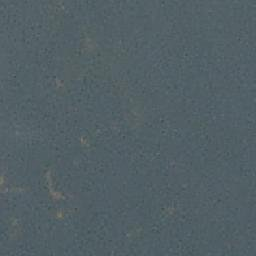debris: (44, 173, 65, 217)
